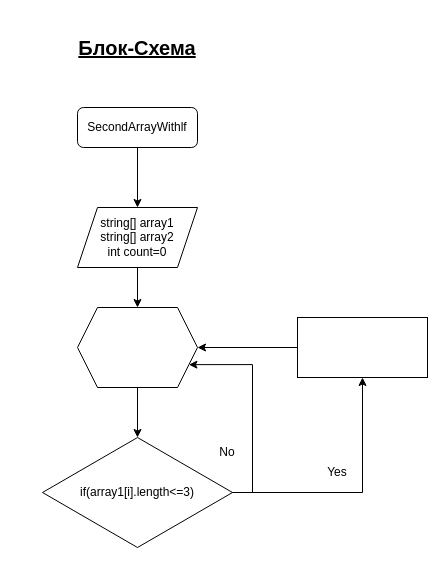
Some shapes in this 445 by 565 pixel diagram are drawn without their labels. Each missing label, with the box of its shape:
array2[count]=array1[i] count++: (296, 316, 428, 378)
for (int i=0; i<array1.length; i++): (76, 306, 198, 388)
